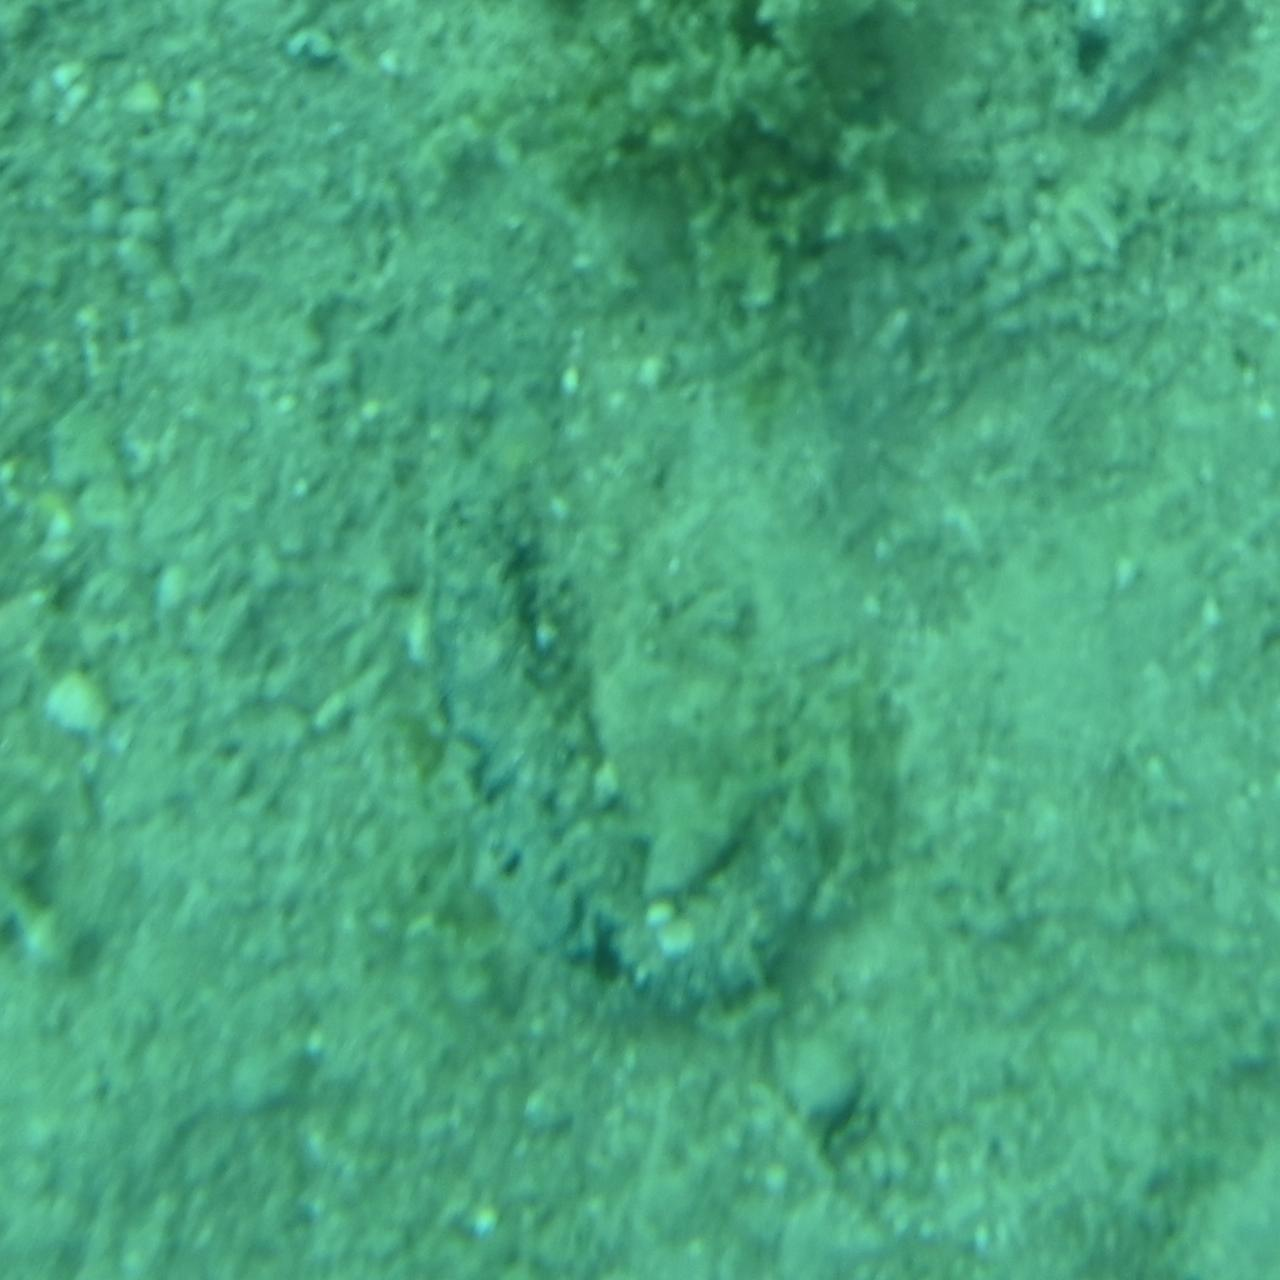Holothuria tubulosa: (416, 497, 864, 1031)
